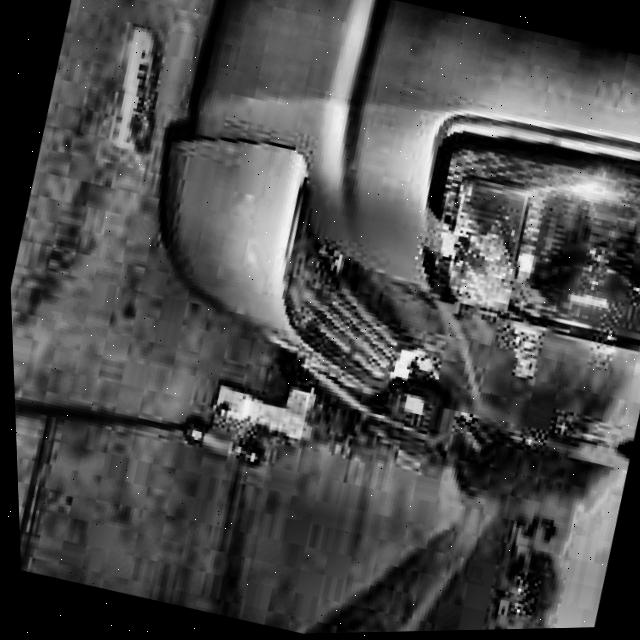tail_lamp: (418, 118, 640, 359)
